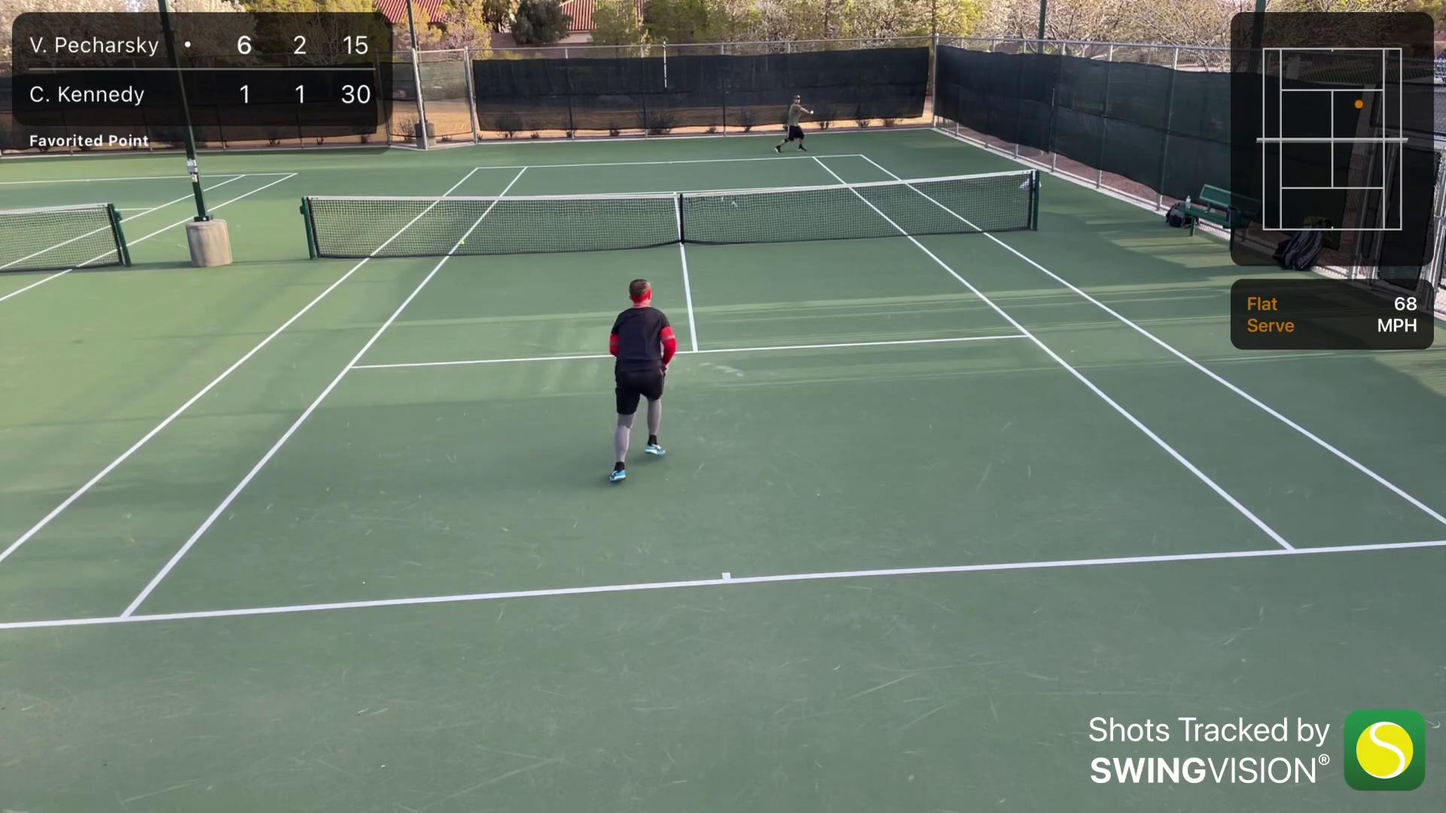ball: (810, 110, 814, 115)
